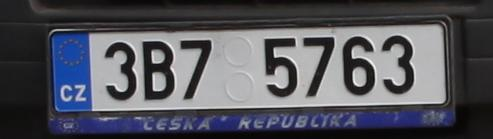3: (383, 32, 416, 97), (107, 40, 137, 104)
5: (260, 33, 300, 100)
6: (342, 34, 378, 100)
7: (180, 36, 217, 102), (302, 34, 337, 102)
B: (140, 37, 178, 102)
